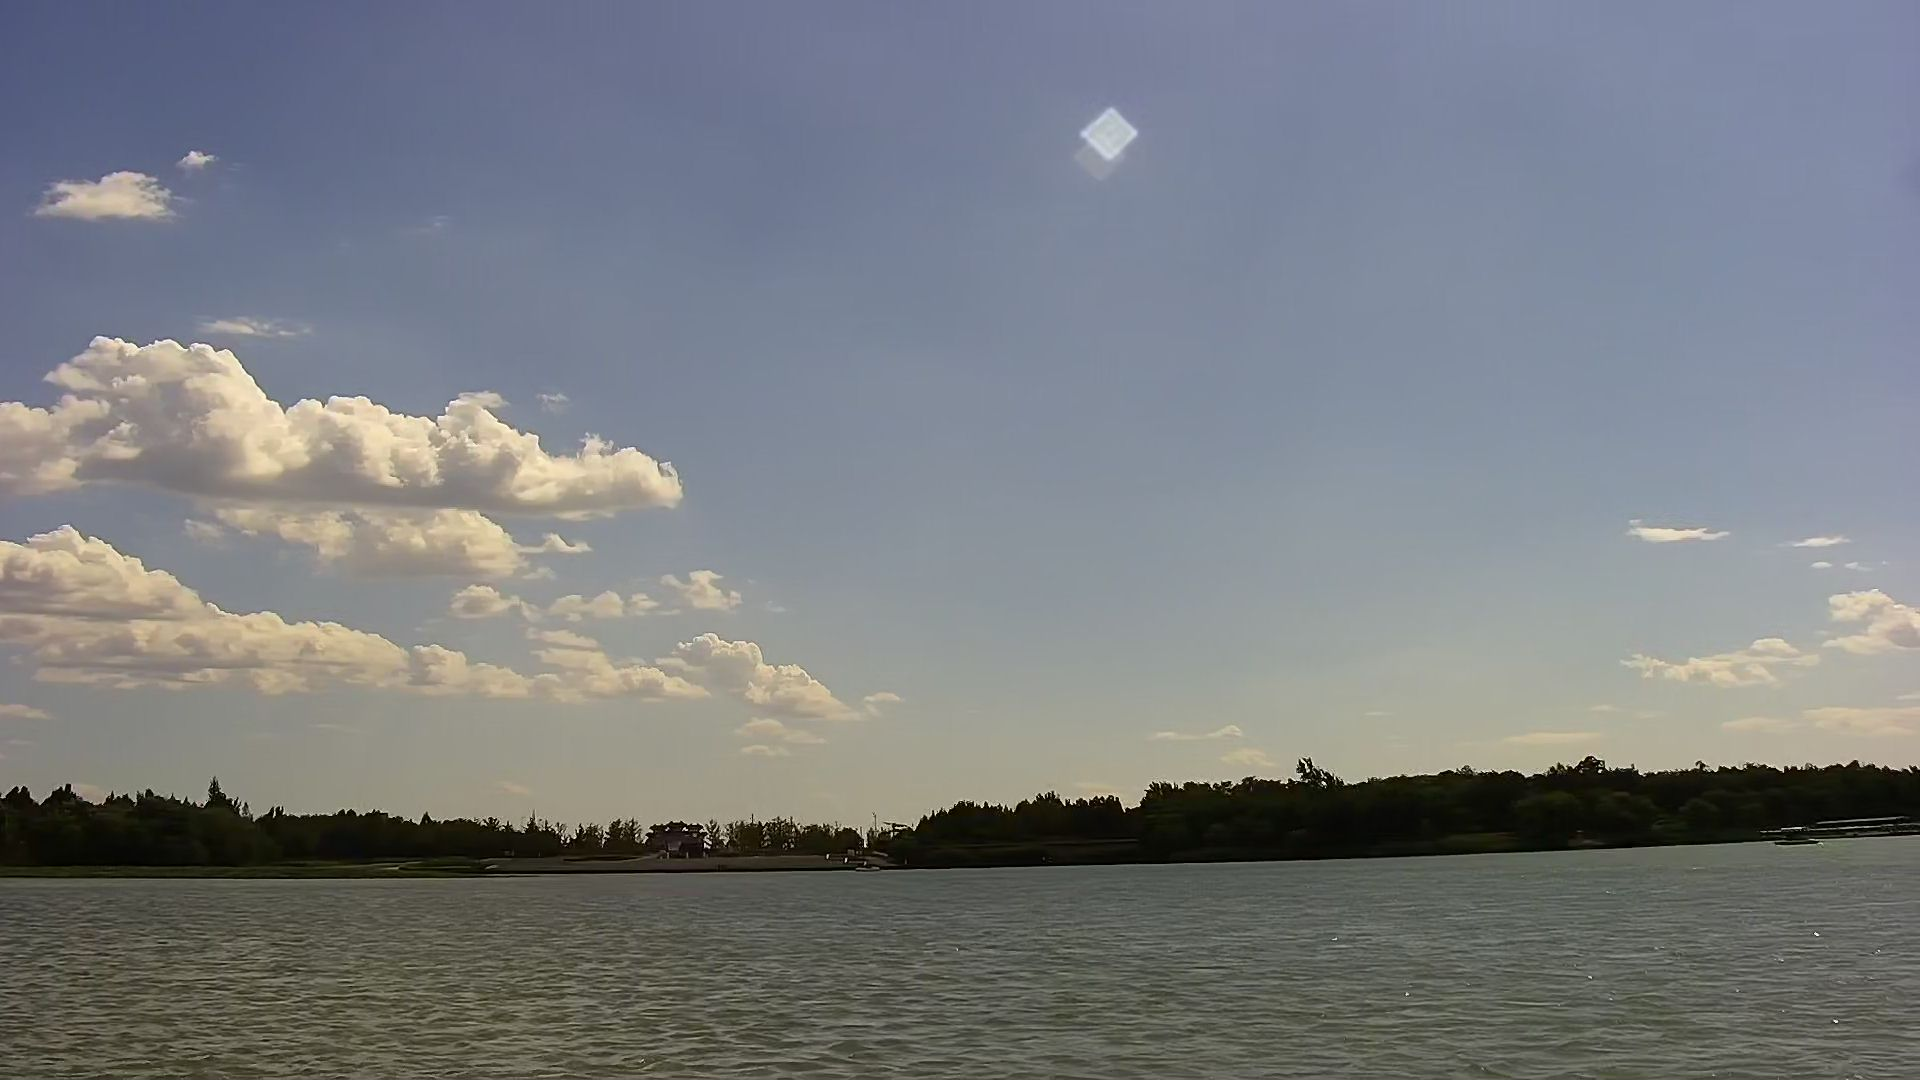boat: (1770, 829, 1809, 847)
